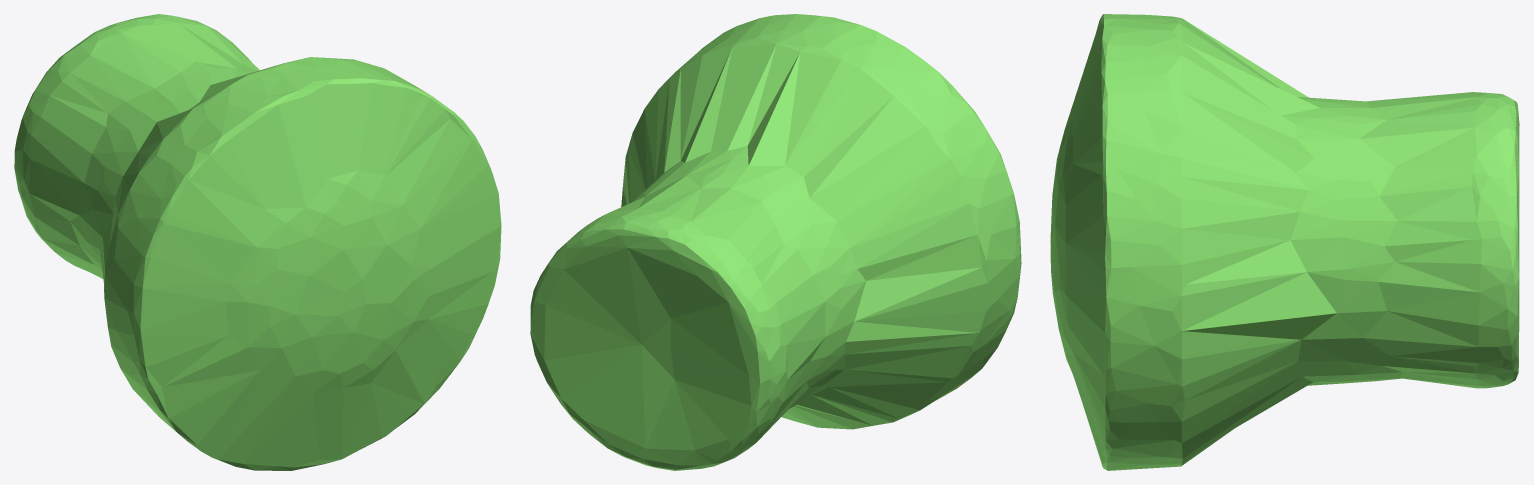
The model's file is part_2_Knob_wrapped.obj.
3 views of the same model, side by side, from view 1: azimuth 30°, elevation 25°; view 2: azimuth 150°, elevation 25°; view 3: azimuth 270°, elevation 25° (orthographic). The views are drawn at different scales.
Visible parts, largest first — view 1: part_2_Knob_wrapped; view 2: part_2_Knob_wrapped; view 3: part_2_Knob_wrapped.
Part boxes in pixels (box(x1,y1,x2,y2)): part_2_Knob_wrapped: box(14, 14, 501, 470); part_2_Knob_wrapped: box(530, 14, 1021, 470); part_2_Knob_wrapped: box(1050, 14, 1519, 470).
Bounding box in the file's own units: 0.1163 × 0.1154 × 0.1186.
